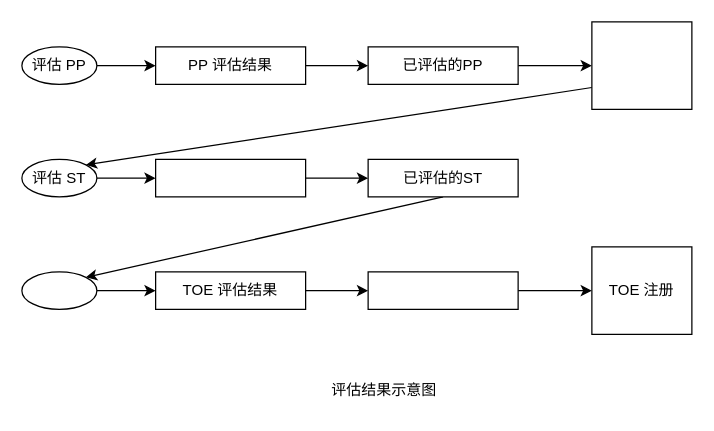
Some shapes in this 714 by 431 pixel diagram are drawn without their labels. Here are the shapes that lost their labels. From the top down, the centre of each, then its label:
At point (641, 65): "PP注册".
At point (230, 177): "ST 评估结果".
At point (59, 290): "评估 TOE".
At point (442, 290): "已评估的TOE".
